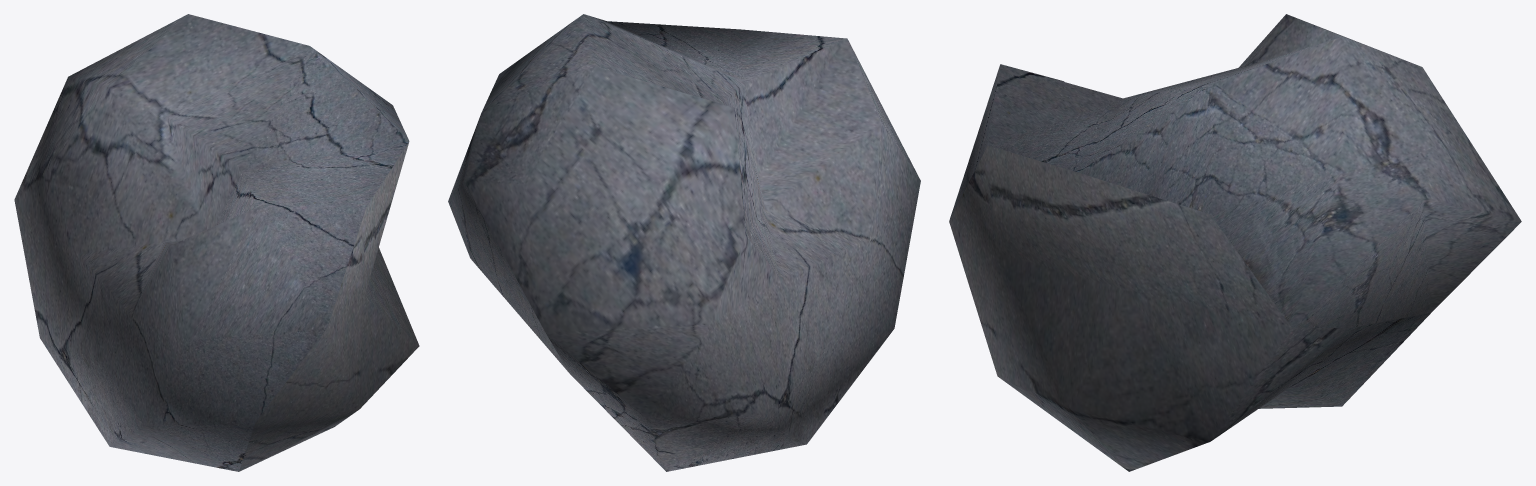
File: rock.fbx
The picture shows the model from 3 angles, left to right: view 1: azimuth 30°, elevation 25°; view 2: azimuth 150°, elevation 25°; view 3: azimuth 270°, elevation 25°; orthographic projection. The views are drawn at different scales.
Parts seen in each view (by area): view 1: Icosphere; view 2: Icosphere; view 3: Icosphere.
Boxes of the visible parts, x1,y1,x2,y2 form: Icosphere: (14,14,419,471); Icosphere: (448,14,920,471); Icosphere: (949,14,1521,471).
Bounding box in the file's own units: 1.58 × 1.7 × 2.18.
